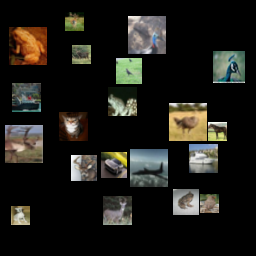airplane: (130, 149, 168, 187)
automobile: (101, 152, 127, 178)
bird: (128, 16, 166, 54), (169, 103, 207, 141), (213, 51, 245, 83), (116, 58, 142, 84), (200, 194, 219, 213)
cat: (59, 112, 88, 141)
deer: (5, 125, 43, 163), (103, 196, 132, 225), (71, 155, 97, 181), (72, 45, 91, 64), (65, 12, 84, 31)
dog: (11, 206, 30, 225)
frog: (9, 27, 47, 65), (108, 87, 137, 116), (173, 189, 199, 215)
ship: (12, 83, 41, 112), (189, 144, 218, 173)
